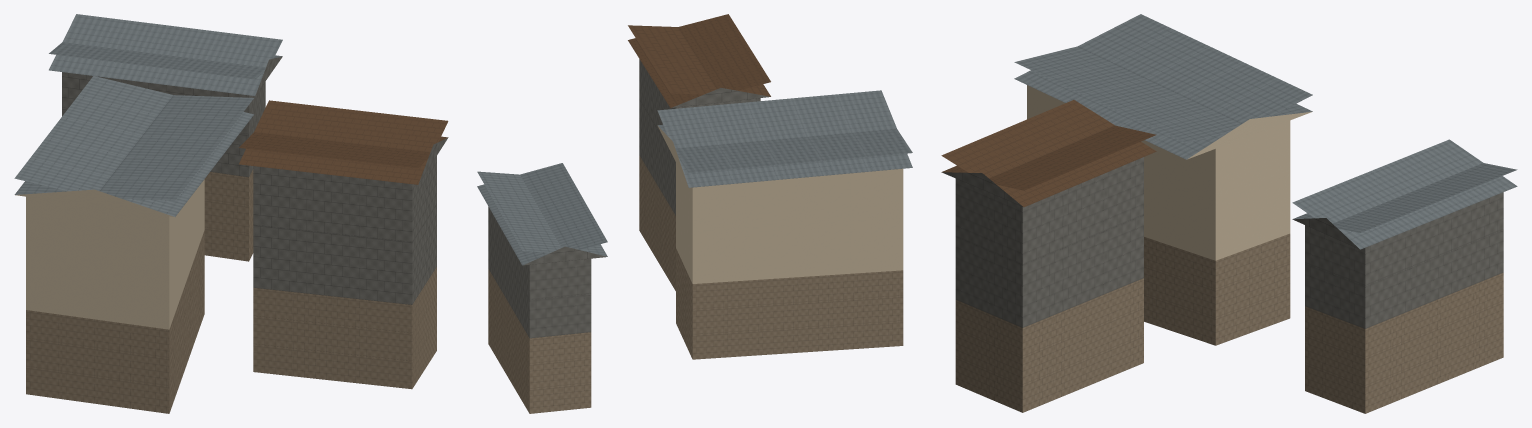
The model's file is bld_c15_37_410.gltf.
The picture shows the model from 3 angles, left to right: view 1: azimuth 30°, elevation 25°; view 2: azimuth 150°, elevation 25°; view 3: azimuth 270°, elevation 25°; orthographic projection. The views are drawn at different scales.
Parts seen in each view (by area): view 1: bld_c15_37_410; view 2: bld_c15_37_410; view 3: bld_c15_37_410.
Part boxes in pixels (left/top/right/bottom): bld_c15_37_410: left=14, top=14, right=448, bottom=413; bld_c15_37_410: left=477, top=14, right=912, bottom=413; bld_c15_37_410: left=941, top=14, right=1517, bottom=413.
Size of the model in its own units: 23.9 by 13.8 by 31.37.
7 materials, 7 textured.
